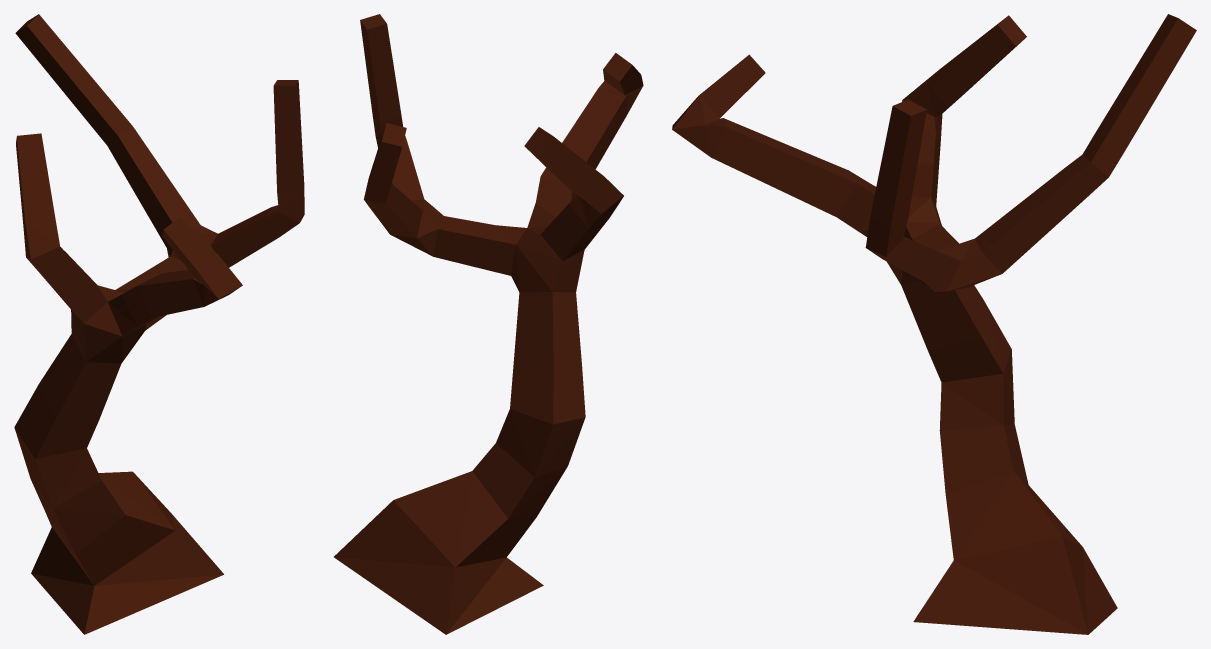
Rendered from DesertTree5.fbx.
3 views of the same model, side by side, from view 1: azimuth 30°, elevation 25°; view 2: azimuth 150°, elevation 25°; view 3: azimuth 270°, elevation 25° (orthographic). The views are drawn at different scales.
Parts seen in each view (by area): view 1: deserttree5; view 2: deserttree5; view 3: deserttree5.
Part boxes in pixels (x1,y1,x2,y2): deserttree5: [14, 14, 304, 634]; deserttree5: [334, 14, 643, 634]; deserttree5: [672, 14, 1196, 634].
Bounding box in the file's own units: 279 × 529 × 413.
